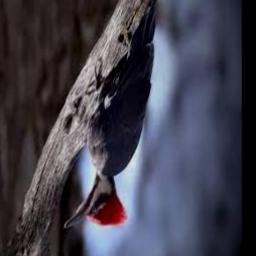Woodpecker: (65, 1, 157, 229)
